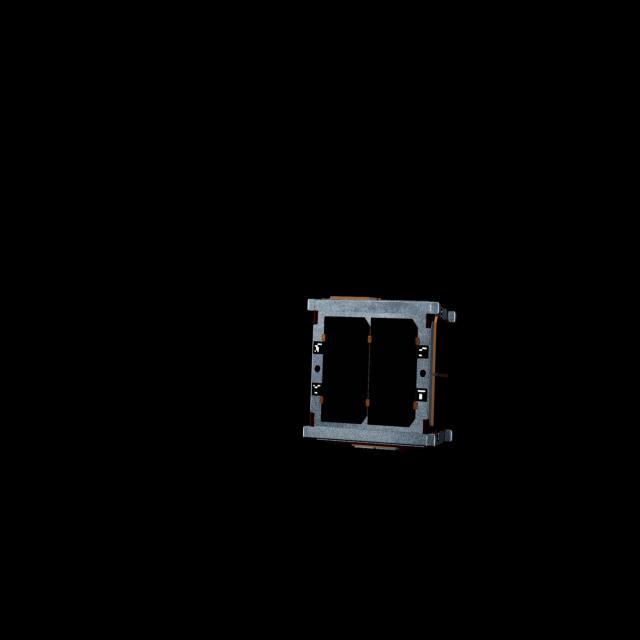satellite: (299, 289, 464, 472)
